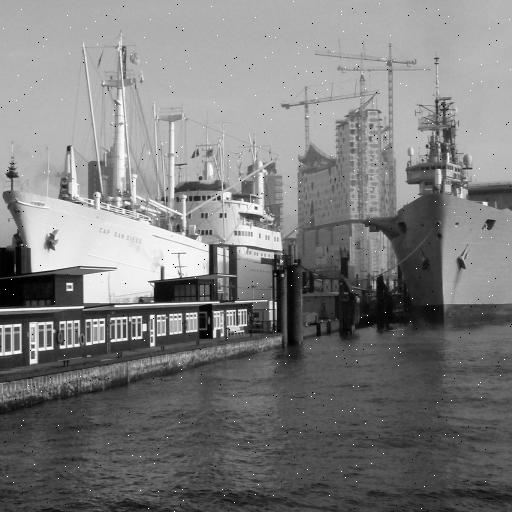Portanaves: (361, 51, 512, 332)
